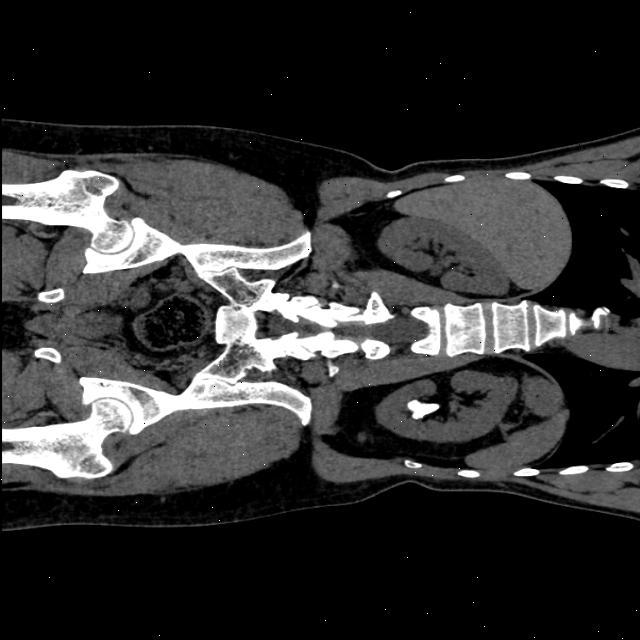kidneystone: (407, 400, 439, 420)
